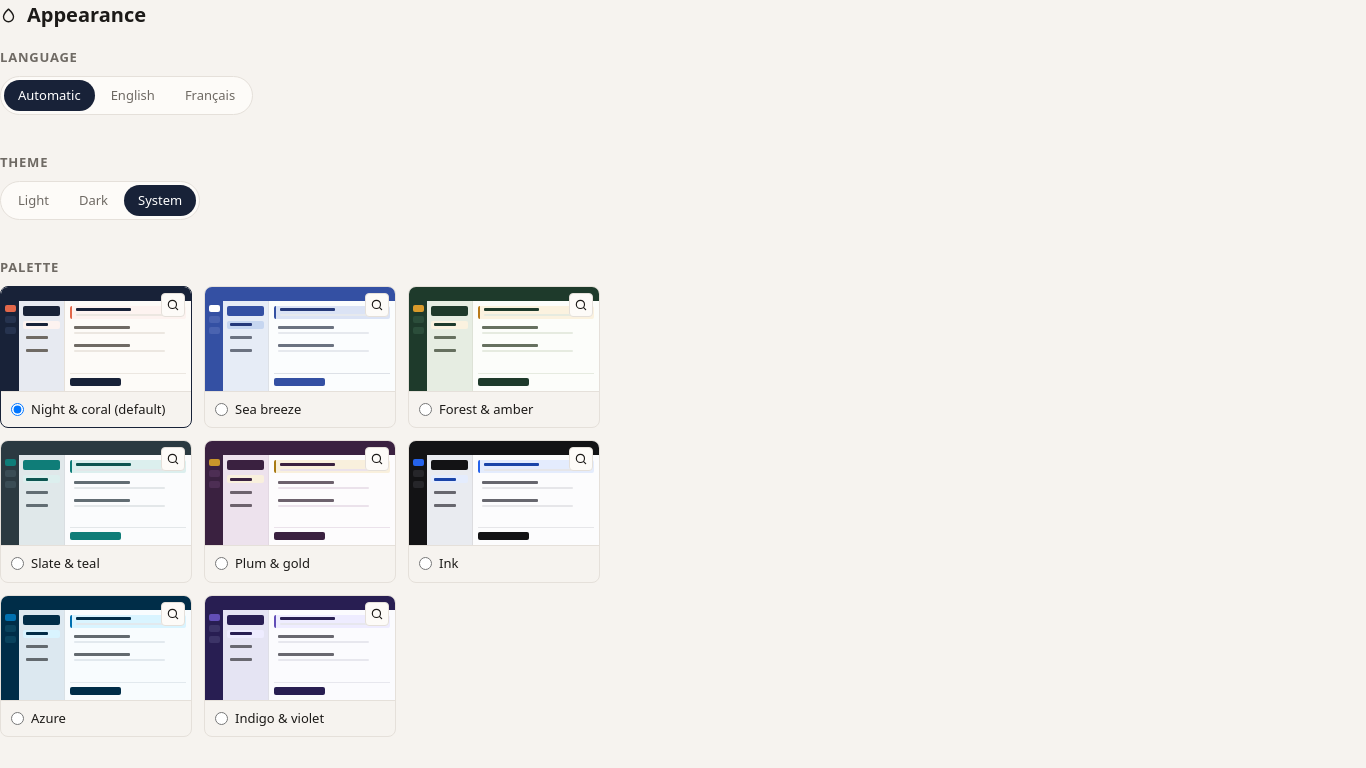
Test: AppearancePage — the enlarged preview › closes on the ✕
This screenshot has width=1366, height=768.
Click the button named "Enlarge the Azure preview" at (173, 614), box [161,602,185,626]
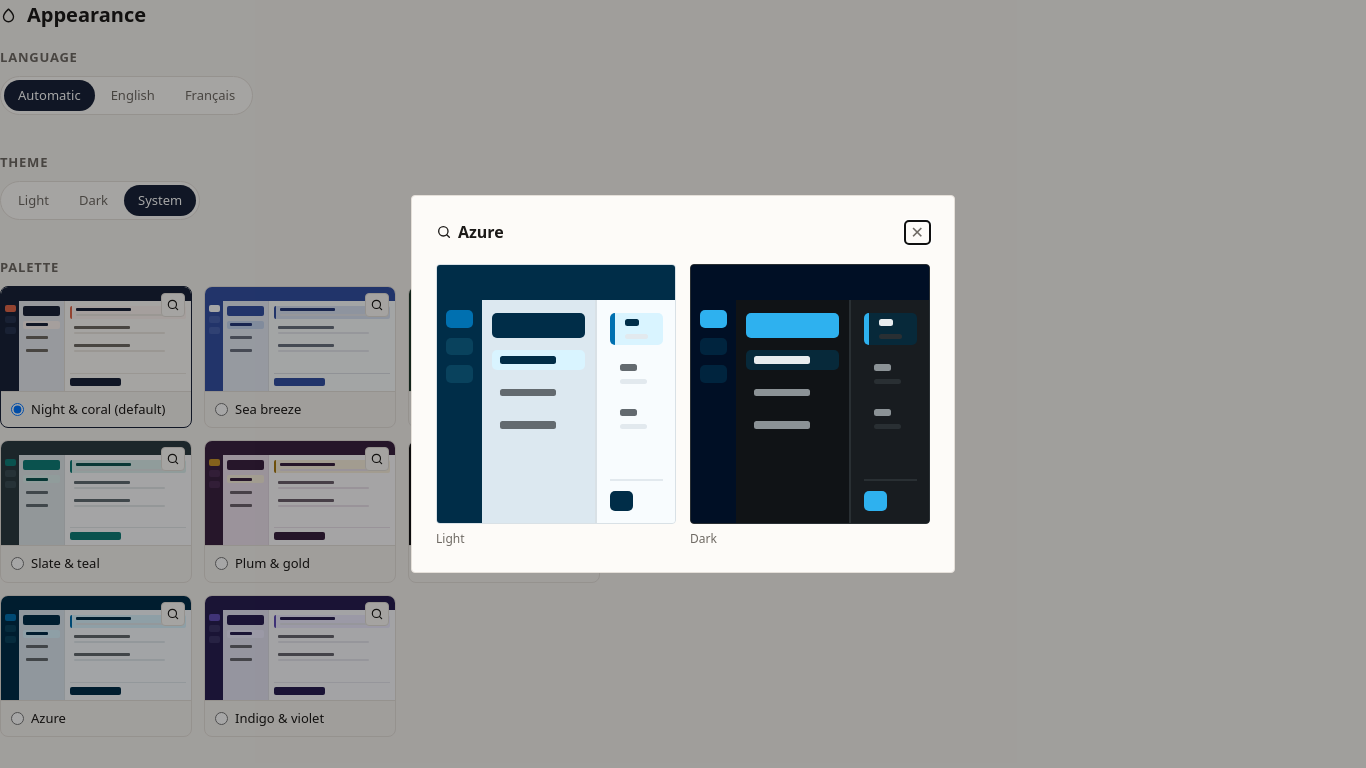
Click the button named "Close" at (917, 232), box [905,220,930,244]
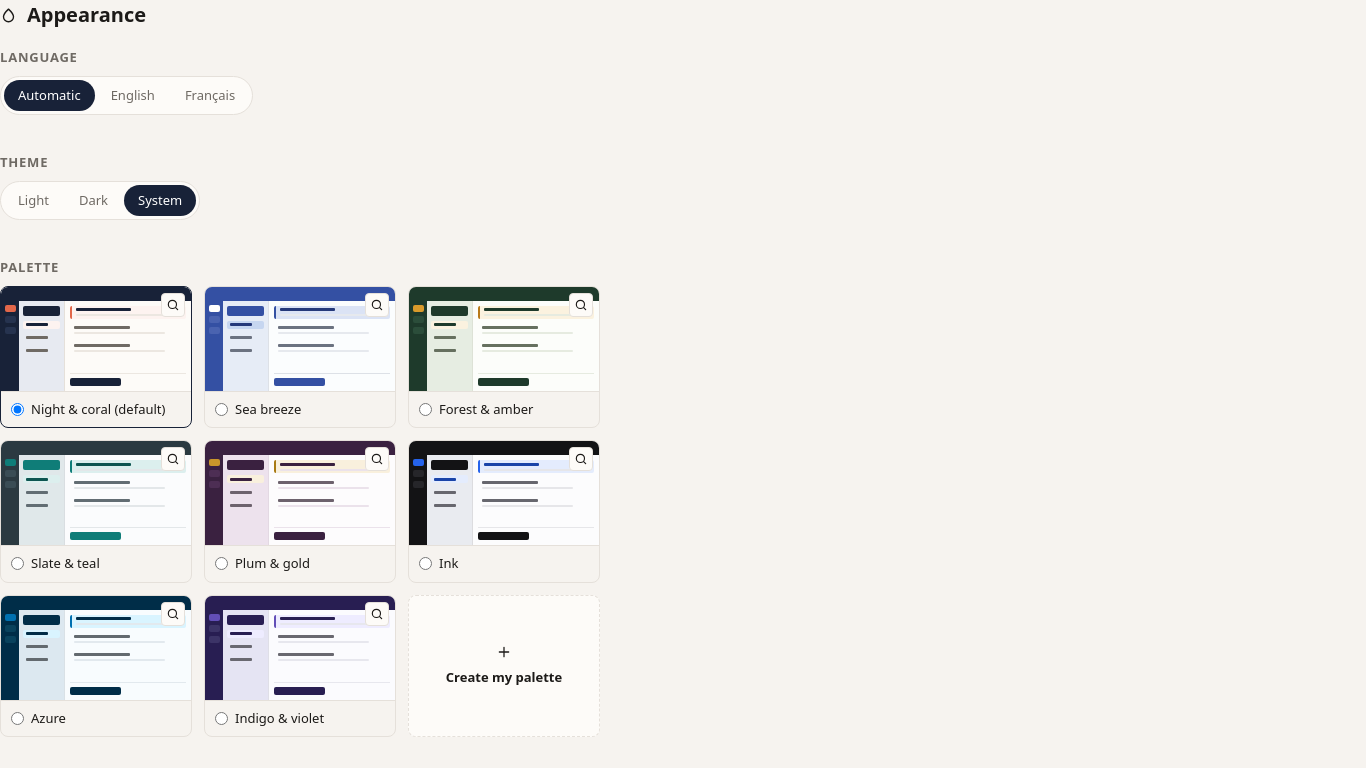
Expected: the dialog is gone
